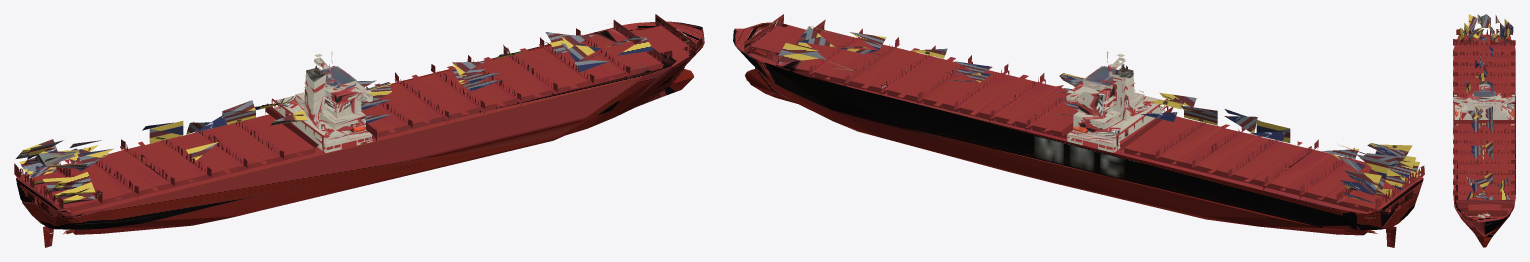
3 views of the same model, side by side, from view 1: azimuth 30°, elevation 25°; view 2: azimuth 150°, elevation 25°; view 3: azimuth 270°, elevation 25° (orthographic). The views are drawn at different scales.
Parts seen in each view (by area): view 1: Ship_Hull_0, Containers_Containers_0, Ship_Bridge_0; view 2: Ship_Hull_0, Containers_Containers_0, Ship_Bridge_0; view 3: Ship_Hull_0, Containers_Containers_0, Ship_Bridge_0.
Boxes of the visible parts, bbox=[...] form: Ship_Hull_0: bbox=[14, 14, 704, 247]; Containers_Containers_0: bbox=[16, 30, 653, 204]; Ship_Bridge_0: bbox=[274, 29, 686, 152]; Ship_Hull_0: bbox=[733, 14, 1424, 247]; Containers_Containers_0: bbox=[778, 26, 1419, 203]; Ship_Bridge_0: bbox=[752, 30, 1164, 152]; Ship_Hull_0: bbox=[1453, 28, 1515, 247]; Containers_Containers_0: bbox=[1460, 14, 1513, 199]; Ship_Bridge_0: bbox=[1453, 78, 1515, 217].
Size of the model in its own units: 91.25 by 16.58 by 12.84.
3 materials, 3 textured.
